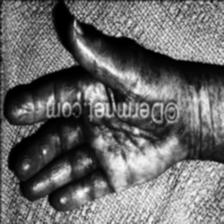Unclassified: (122, 64, 145, 92), (148, 135, 168, 149)
